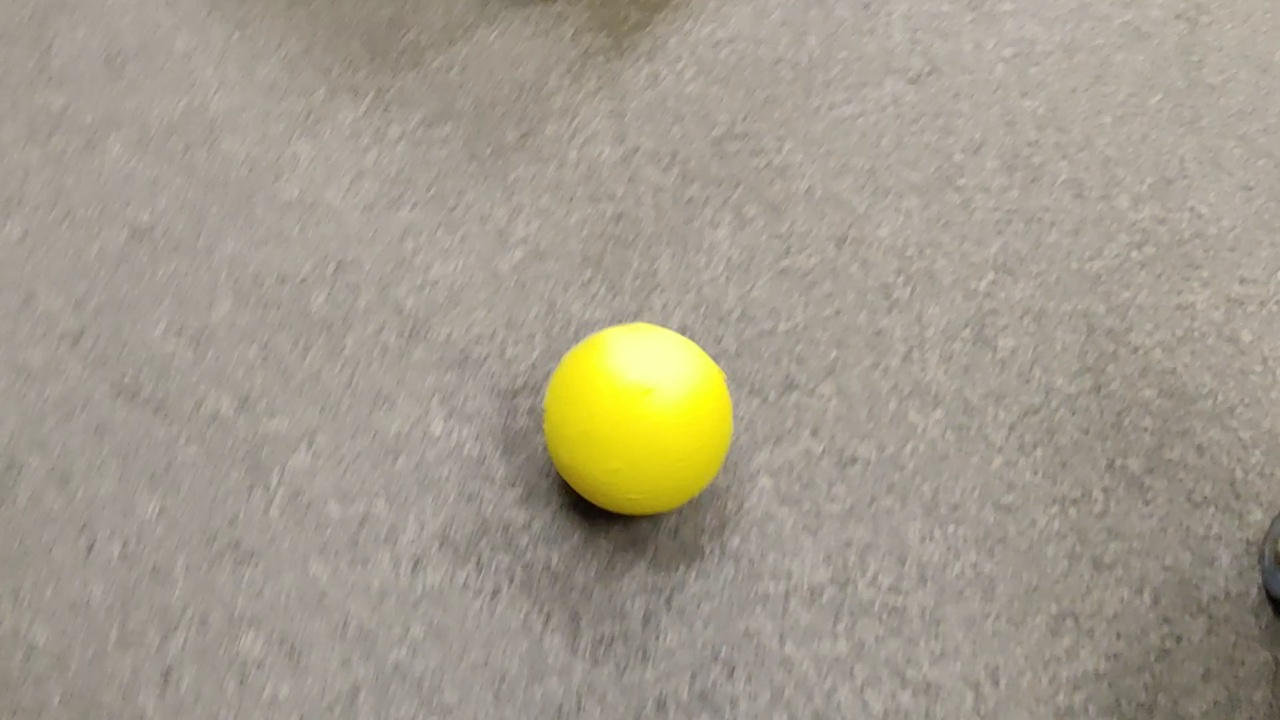Ball: (542, 322, 734, 516)
